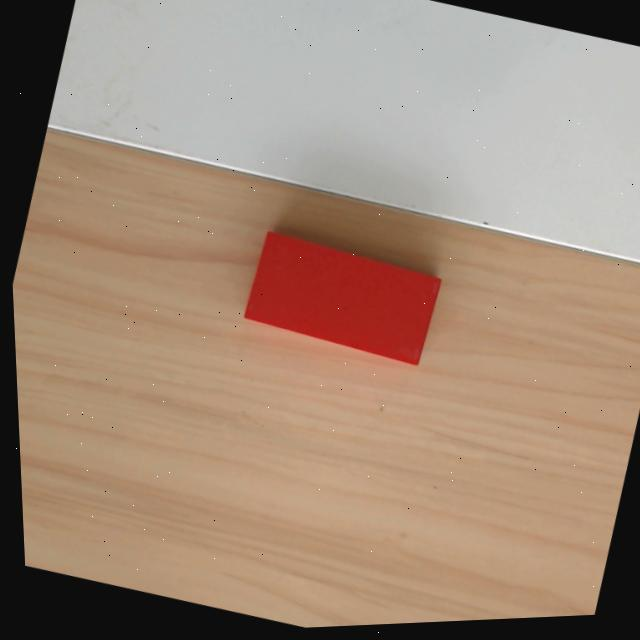Balok-Merah-1005025: (241, 229, 441, 365)
